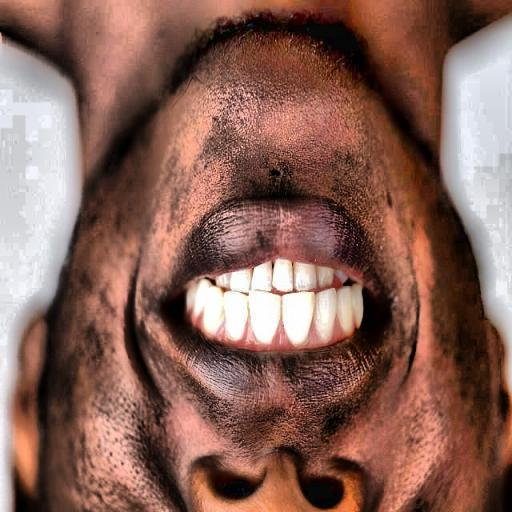Healthy: (138, 230, 411, 379)
